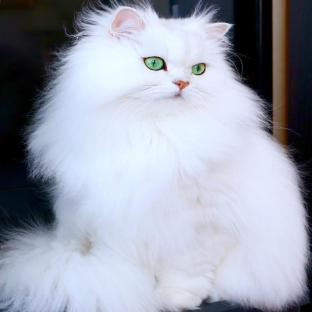Animal: (0, 1, 309, 312)
